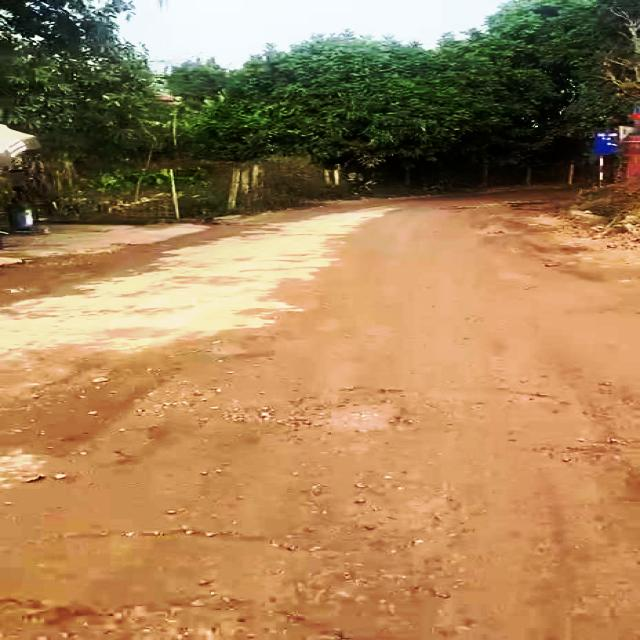pothole: (299, 383, 429, 438)
